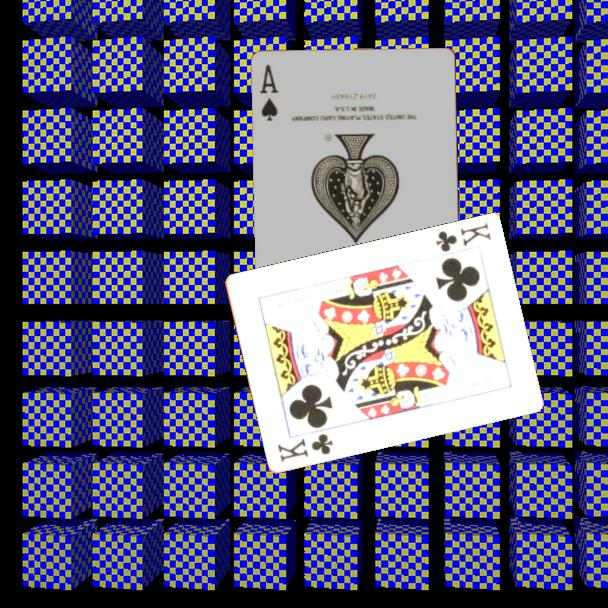c13: (274, 430, 335, 466), (432, 219, 493, 255)
s01: (257, 61, 281, 124)
